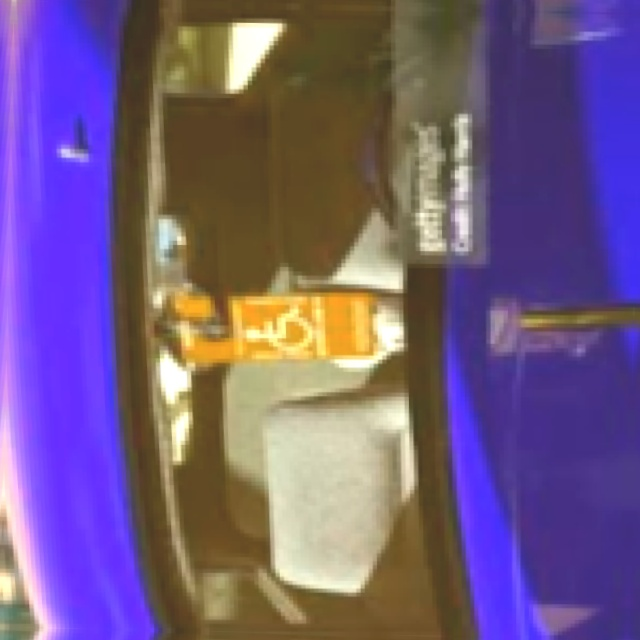ISA: (243, 309, 310, 351)
